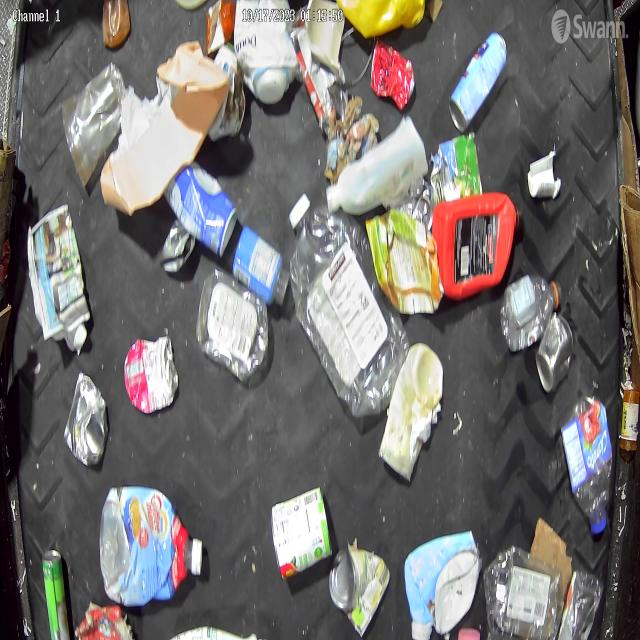can: (451, 31, 509, 131), (330, 544, 391, 638), (271, 487, 332, 580), (123, 336, 178, 415), (64, 372, 110, 465), (369, 40, 415, 110), (536, 316, 576, 394), (161, 220, 197, 275)
milk_jug: (327, 114, 428, 218)
non_white_jug: (434, 193, 517, 297), (405, 530, 479, 640)
plastic_bottle: (563, 397, 612, 534), (499, 276, 562, 352)
